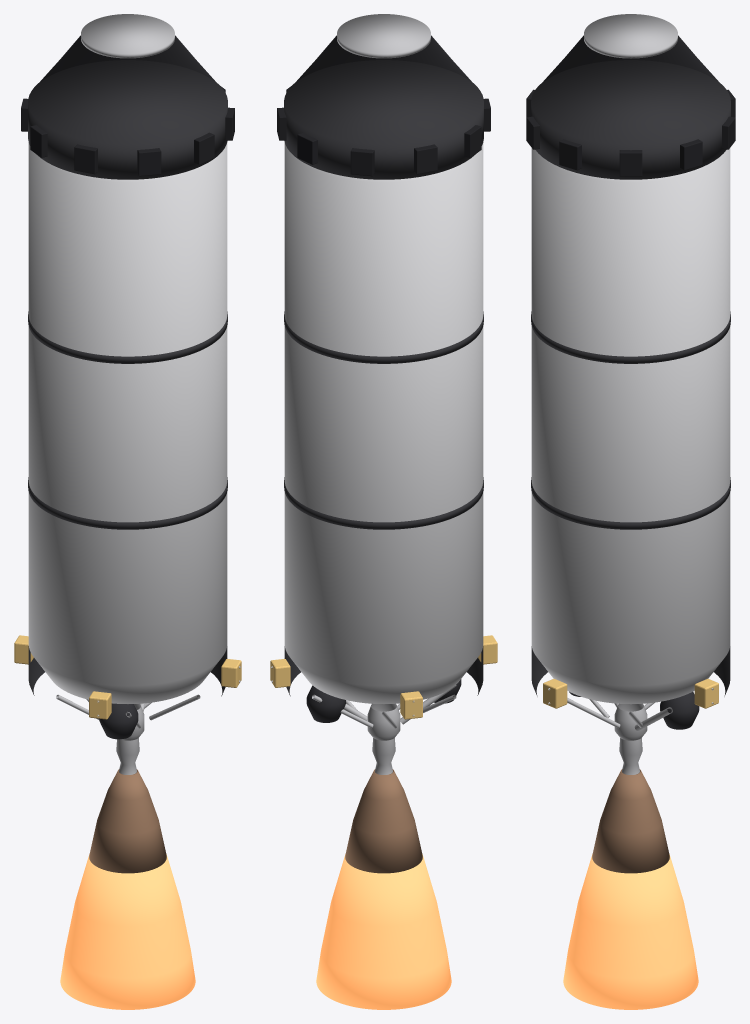
The model's file is stage.glb.
3 renders of one model, left to right at view 1: azimuth 30°, elevation 25°; view 2: azimuth 150°, elevation 25°; view 3: azimuth 270°, elevation 25°, orthographic.
Parts seen in each view (by area): view 1: K_Tank, K_Aviyonik_Halka, K_RL10_Uzatma, K_RL10_Rejen_Can, K_Sikistirma_Bandi, K_Yuk_Adaptoru, K_Serit_-4.8, K_Serit_-7.6, K_Helyum_1, K_RL10_Oda, K_Aviyonik_7, K_Aviyonik_6 (+4 smaller); view 2: K_Tank, K_Aviyonik_Halka, K_RL10_Uzatma, K_RL10_Rejen_Can, K_Sikistirma_Bandi, K_Yuk_Adaptoru, K_Serit_-4.8, K_Serit_-7.6, K_RL10_Turbopompa, K_Helyum_0, K_RL10_Oda, K_Aviyonik_3 (+5 smaller); view 3: K_Tank, K_Aviyonik_Halka, K_RL10_Uzatma, K_RL10_Rejen_Can, K_Sikistirma_Bandi, K_Yuk_Adaptoru, K_Serit_-7.6, K_Serit_-4.8, K_Helyum_0, K_RL10_Turbopompa, K_Arka_Etek, K_RL10_Oda (+5 smaller).
Part boxes in pixels (bbox=[...]): K_Tank: bbox=[28, 143, 227, 703]; K_Aviyonik_Halka: bbox=[28, 60, 227, 179]; K_RL10_Uzatma: bbox=[60, 854, 195, 1009]; K_RL10_Rejen_Can: bbox=[89, 769, 166, 873]; K_Sikistirma_Bandi: bbox=[81, 14, 174, 58]; K_Yuk_Adaptoru: bbox=[37, 35, 217, 84]; K_Serit_-4.8: bbox=[28, 311, 227, 363]; K_Serit_-7.6: bbox=[28, 477, 227, 529]; K_Helyum_1: bbox=[99, 703, 138, 739]; K_RL10_Oda: bbox=[116, 738, 139, 774]; K_Aviyonik_7: bbox=[137, 148, 161, 176]; K_Aviyonik_6: bbox=[74, 144, 97, 174]; K_Tank: bbox=[284, 143, 483, 703]; K_Aviyonik_Halka: bbox=[284, 60, 483, 179]; K_RL10_Uzatma: bbox=[316, 854, 451, 1009]; K_RL10_Rejen_Can: bbox=[345, 769, 422, 873]; K_Sikistirma_Bandi: bbox=[337, 14, 430, 58]; K_Yuk_Adaptoru: bbox=[294, 35, 474, 84]; K_Serit_-4.8: bbox=[284, 311, 483, 363]; K_Serit_-7.6: bbox=[284, 477, 483, 529]; K_RL10_Turbopompa: bbox=[367, 703, 400, 740]; K_Helyum_0: bbox=[306, 685, 345, 722]; K_RL10_Oda: bbox=[372, 738, 395, 774]; K_Aviyonik_3: bbox=[350, 148, 374, 176]; K_Tank: bbox=[531, 148, 730, 704]; K_Aviyonik_Halka: bbox=[531, 60, 730, 179]; K_RL10_Uzatma: bbox=[563, 854, 698, 1009]; K_RL10_Rejen_Can: bbox=[592, 769, 669, 873]; K_Sikistirma_Bandi: bbox=[584, 14, 677, 58]; K_Yuk_Adaptoru: bbox=[541, 35, 720, 83]; K_Serit_-7.6: bbox=[531, 477, 730, 529]; K_Serit_-4.8: bbox=[531, 311, 730, 363]; K_Helyum_0: bbox=[660, 691, 699, 729]; K_RL10_Turbopompa: bbox=[614, 703, 647, 740]; K_Arka_Etek: bbox=[531, 646, 730, 696]; K_RL10_Oda: bbox=[619, 738, 642, 774].
Size of the model in its own units: 3.26 by 16 by 3.2.
